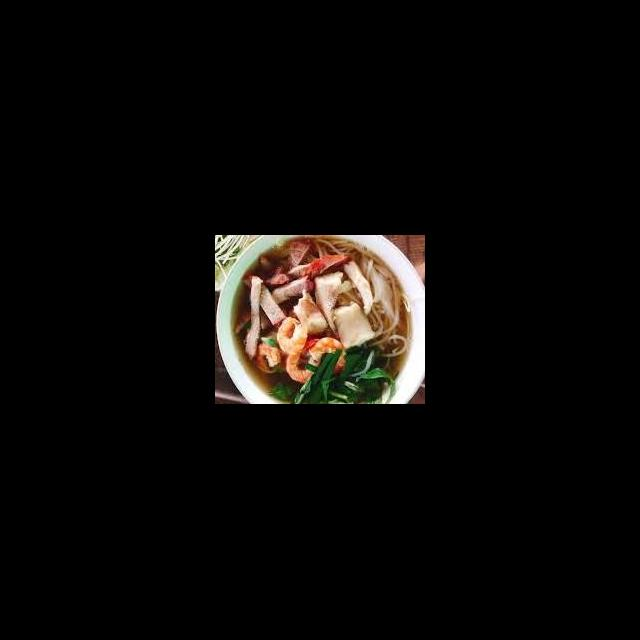bun: (358, 245, 409, 362)
ca: (331, 298, 379, 351), (312, 268, 345, 338)
thit heo quay: (263, 252, 352, 288), (242, 272, 289, 330), (242, 272, 265, 364), (265, 274, 316, 308), (284, 238, 312, 276)
tom: (284, 336, 324, 384), (308, 334, 348, 376), (275, 314, 309, 358), (254, 340, 283, 378)
